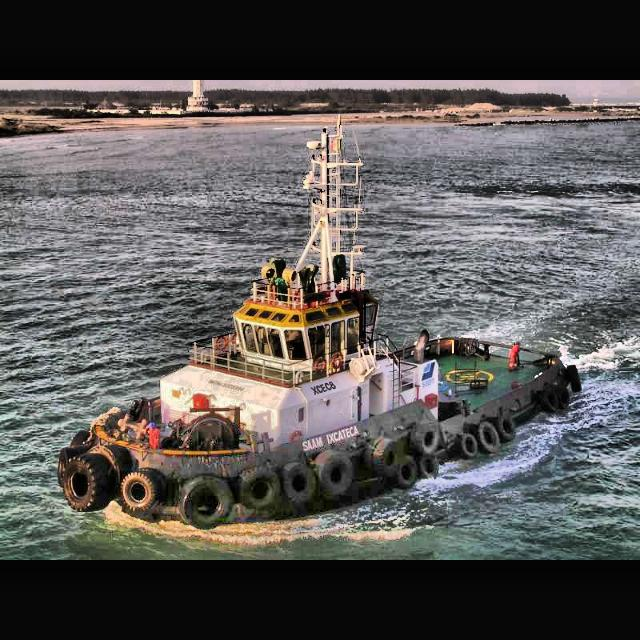tug: (54, 230, 590, 534)
